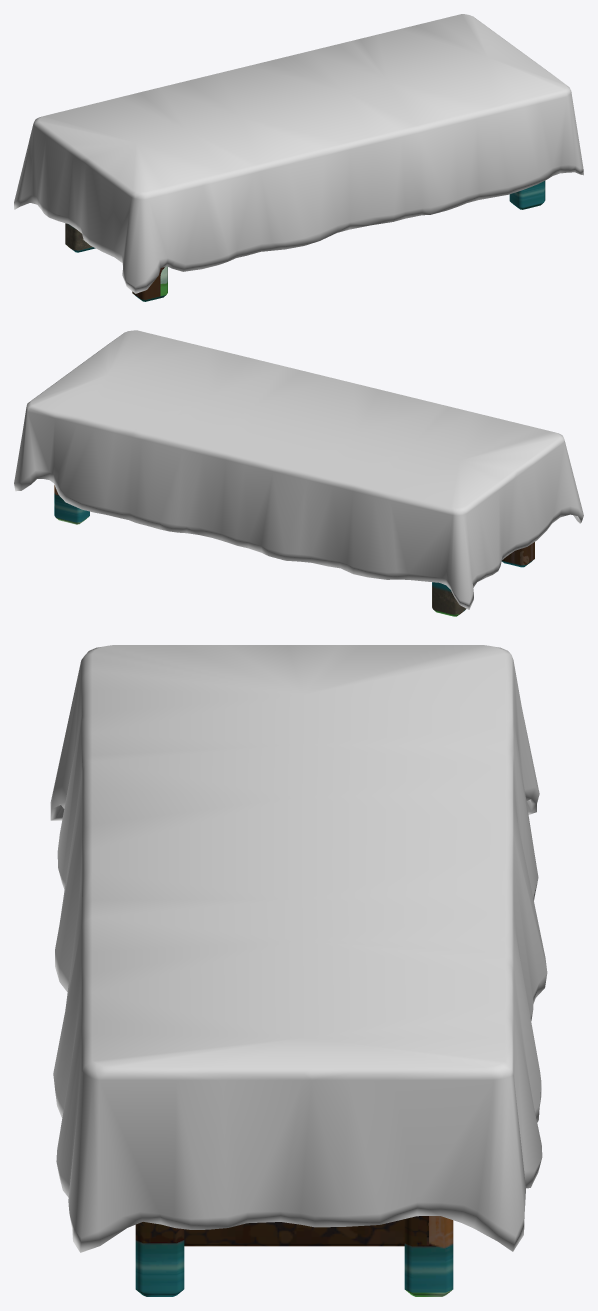
File: bench.fbx
3 views of the same model, one above another, from view 1: azimuth 30°, elevation 25°; view 2: azimuth 150°, elevation 25°; view 3: azimuth 270°, elevation 25° (orthographic). The views are drawn at different scales.
Visible parts, largest first — view 1: cloth_low__mReFabric, wood_low__mBody; view 2: cloth_low__mReFabric, wood_low__mBody; view 3: cloth_low__mReFabric, wood_low__mBody.
Part boxes in pixels (bbox=[...]): cloth_low__mReFabric: bbox=[14, 14, 583, 293]; wood_low__mBody: bbox=[65, 181, 545, 301]; cloth_low__mReFabric: bbox=[14, 330, 583, 609]; wood_low__mBody: bbox=[54, 485, 534, 616]; cloth_low__mReFabric: bbox=[50, 645, 547, 1252]; wood_low__mBody: bbox=[135, 1216, 453, 1296].
Size of the model in its own units: 285 by 72.06 by 133.
